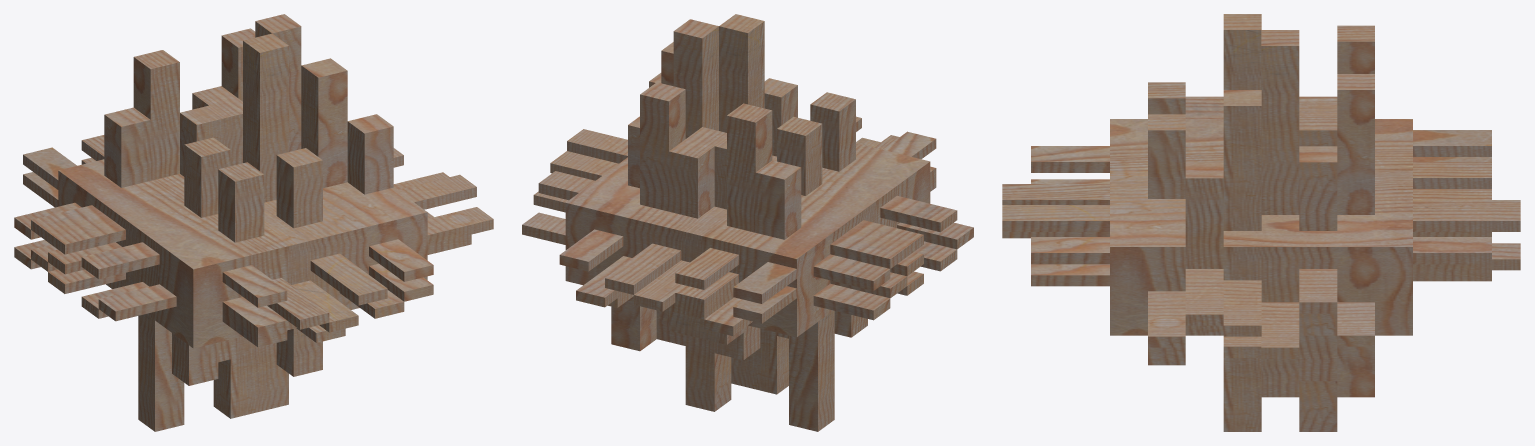
Rendered from modeloLD.glb.
3 renders of one model, left to right at view 1: azimuth 30°, elevation 25°; view 2: azimuth 150°, elevation 25°; view 3: azimuth 270°, elevation 25°, orthographic. The views are drawn at different scales.
Visible parts, largest first — view 1: Cube; view 2: Cube; view 3: Cube.
Part boxes in pixels (<box>): Cube: <box>14,14,493,431</box>; Cube: <box>522,14,973,431</box>; Cube: <box>1002,14,1520,431</box>.
Bounding box in the file's own units: 3.23 × 3.02 × 3.42.
Materials: 1 (1 with a texture image).
